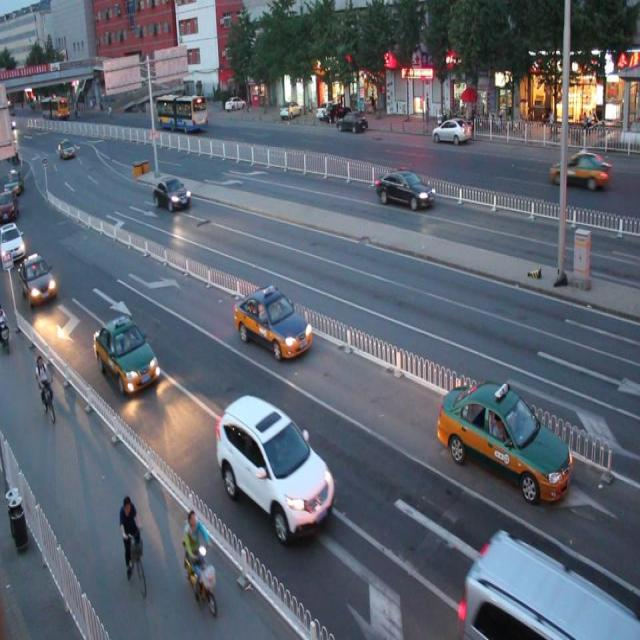car: (454, 530, 640, 640), (212, 390, 334, 540), (436, 378, 573, 500), (233, 285, 311, 359), (94, 315, 159, 394), (374, 167, 434, 210), (551, 150, 610, 188), (19, 251, 57, 304), (153, 174, 190, 209)
